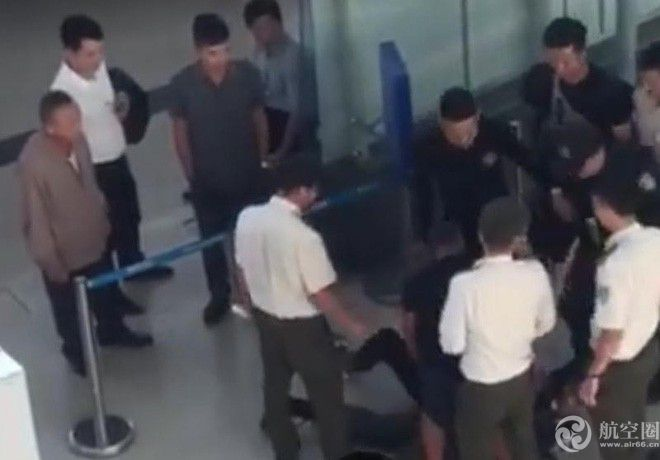10+: (17, 3, 654, 454)
down: (280, 300, 461, 451)
